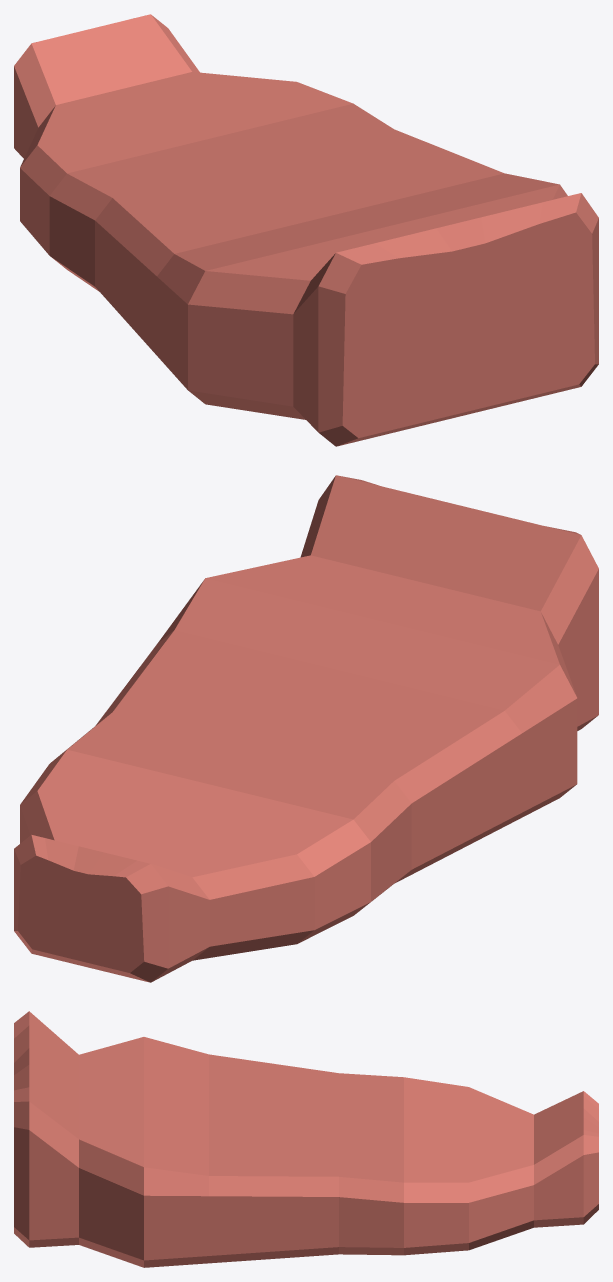
The model's file is calder_light_a.glb.
3 views of the same model, one above another, from view 1: azimuth 30°, elevation 25°; view 2: azimuth 150°, elevation 25°; view 3: azimuth 270°, elevation 25° (orthographic). The views are drawn at different scales.
Visible parts, largest first — view 1: calder_light_a; view 2: calder_light_a; view 3: calder_light_a.
Boxes of the visible parts, box(x1,y1,x2,y2) form: calder_light_a: box(14, 14, 598, 446); calder_light_a: box(14, 475, 598, 982); calder_light_a: box(14, 1011, 598, 1267).
Bounding box in the file's own units: 2.9 × 1.38 × 5.
